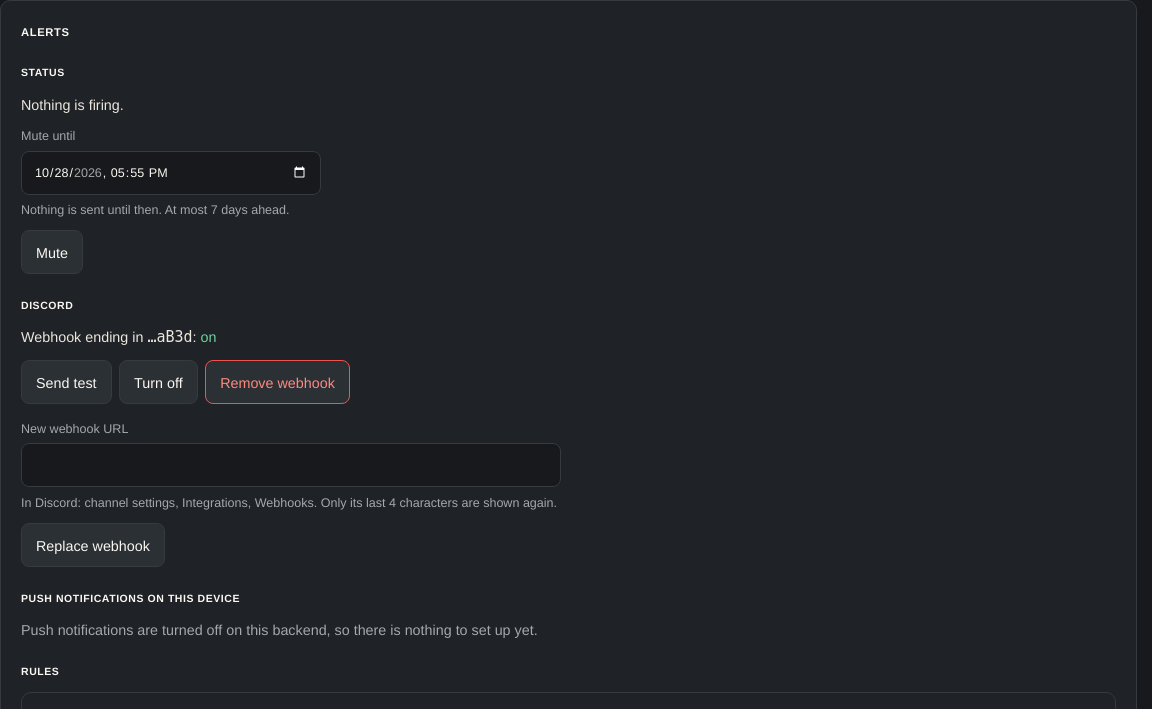
Test case: the Discord controls › turns the webhook off, and removes it behind a confirm
Click the button "Turn off": (158, 382) [119,360,198,404]
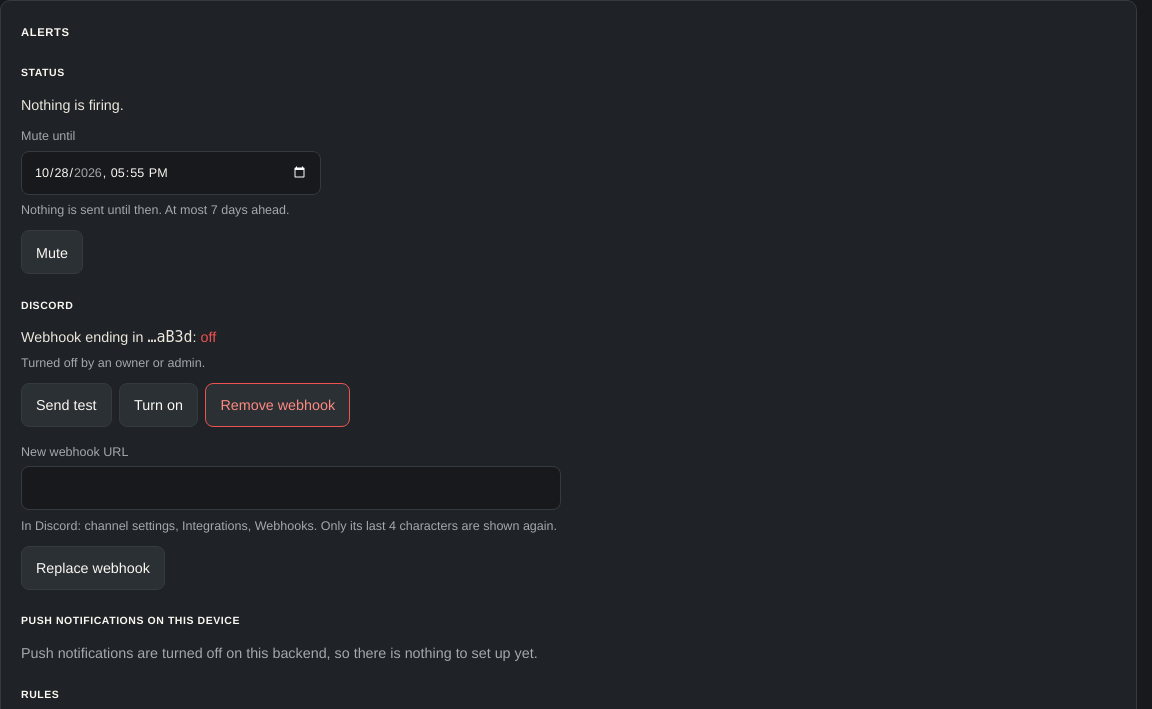
Check: the button "Turn on" is shown, box [119,382,198,426]
Click the button "Remove webhook": (278, 404) [205,382,350,426]
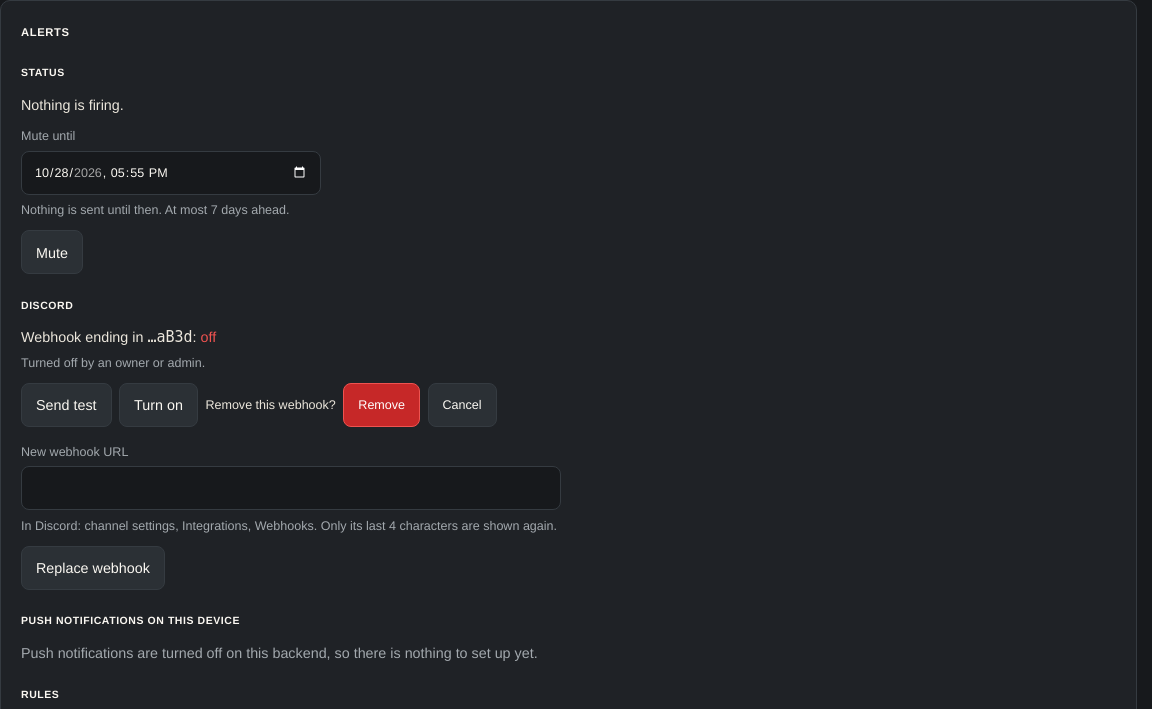
Click the button "Remove": (382, 404) [343,382,420,426]
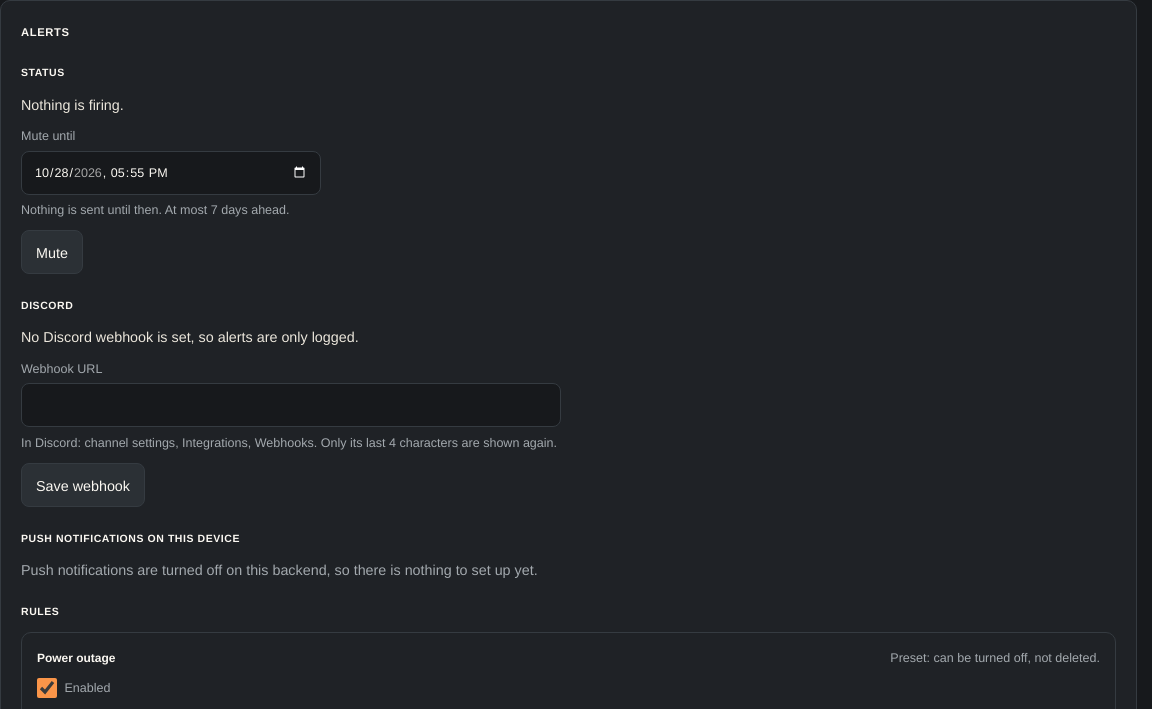
Check: the text "No Discord webhook is set, so alerts are only logged." is shown, box [21,327,359,345]
